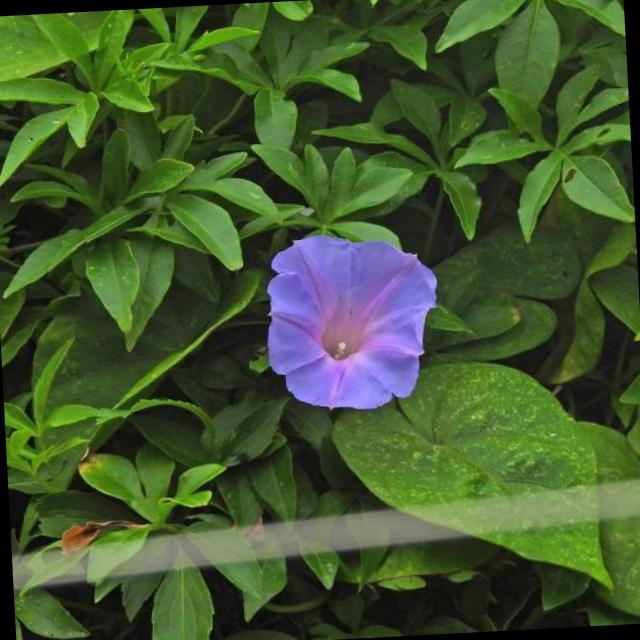ipomoea: (256, 227, 446, 419)
